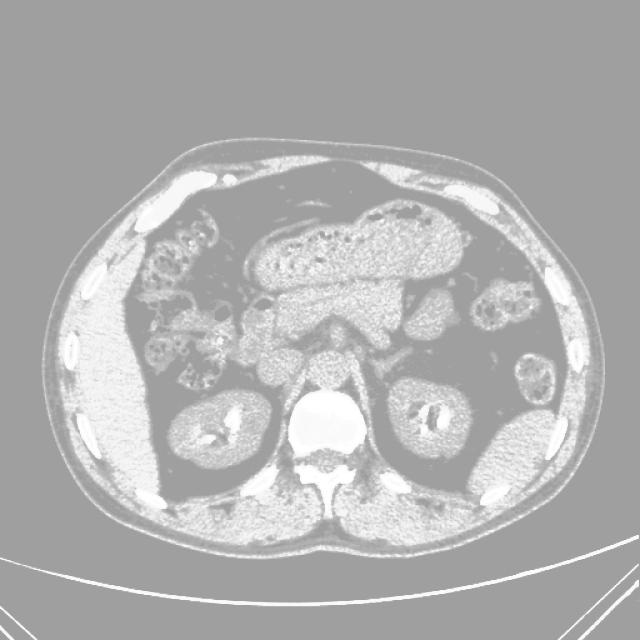STONE: (125, 255, 475, 458)
